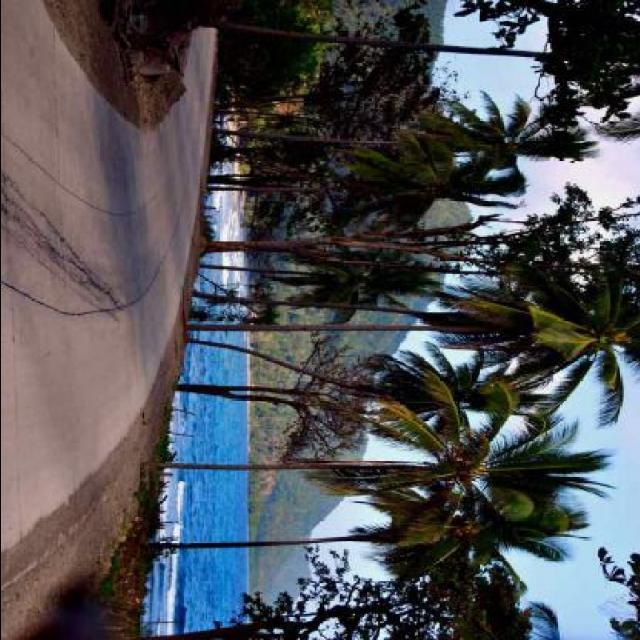Coconut: (442, 515, 476, 537)
